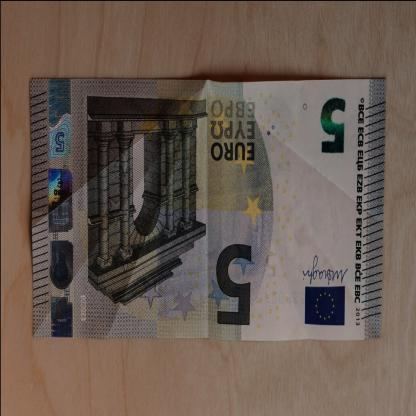euro_banknote: (29, 82, 389, 350)
